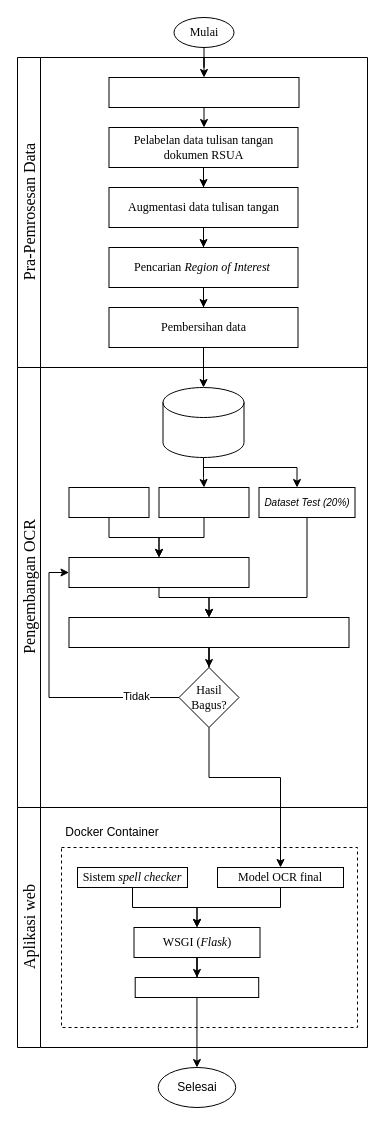
The diagram is 385 pixels wide and 1125 high, and some of its shapes have lost their labels. The shapes that lost their labels are listed below. From the top down, each one's centre as x and y in pixels, then its label:
At [203,92]: "Pengumpulan data RSUA".
At [203,422]: "Dataset Tulisan Tangan RSUA".
At [108,502]: "Pretrained IAM Dataset Model".
At [203,502]: "Dataset Training (80%)".
At [158,572]: "Fine-tuned IAM + RSUA Model".
At [208,632]: "Evaluasi Model".
At [196,987]: "Web Server ( NGINX)".
